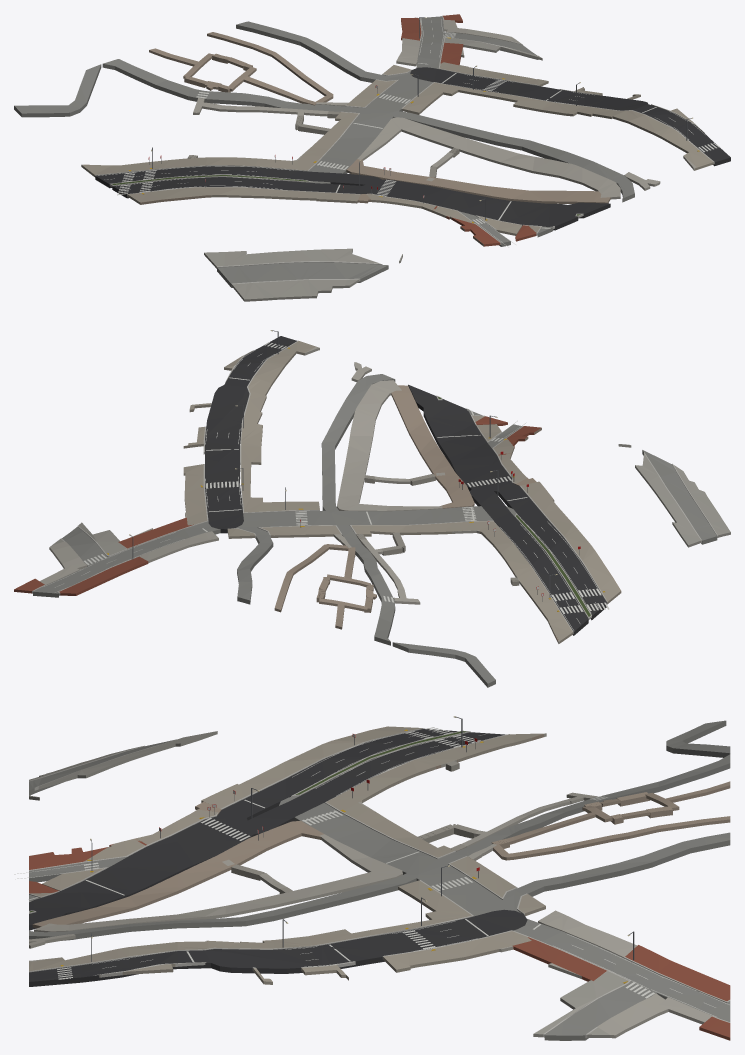
3 renders of one model, top to bottom at view 1: azimuth 30°, elevation 25°; view 2: azimuth 150°, elevation 25°; view 3: azimuth 270°, elevation 25°, orthographic. The views are drawn at different scales.
Bounding box in the file's own units: 149 × 24.91 × 149.
